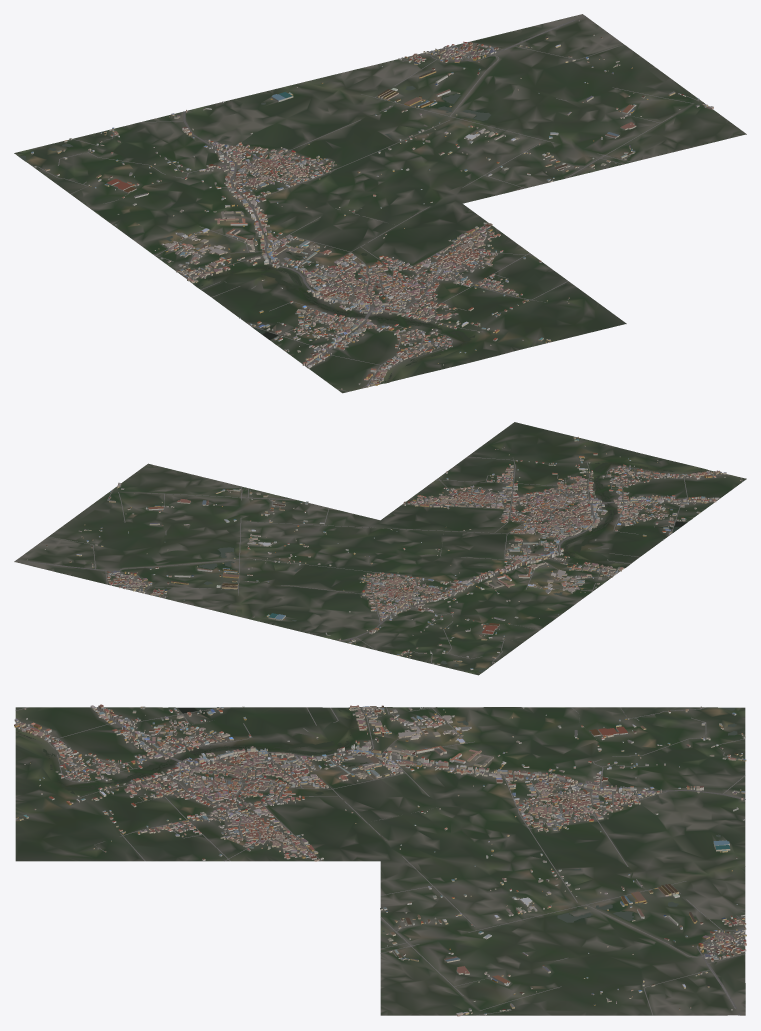
3 views of the same model, one above another, from view 1: azimuth 30°, elevation 25°; view 2: azimuth 150°, elevation 25°; view 3: azimuth 270°, elevation 25° (orthographic). The views are drawn at different scales.
Parts seen in each view (by area): view 1: ground, buildings, roads, water; view 2: ground, buildings, roads, water; view 3: ground, buildings, roads, water.
Part boxes in pixels (x1=…): ground: x1=14, y1=14, x2=746, y2=393; buildings: x1=31, y1=20, x2=713, y2=389; roads: x1=32, y1=15, x2=698, y2=391; water: x1=18, y1=78, x2=590, y2=382; ground: x1=14, y1=422, x2=746, y2=675; buildings: x1=27, y1=436, x2=741, y2=669; roads: x1=16, y1=449, x2=742, y2=664; water: x1=182, y1=462, x2=708, y2=672; ground: x1=15, y1=707, x2=745, y2=1015; buildings: x1=14, y1=704, x2=746, y2=1016; roads: x1=15, y1=707, x2=745, y2=1015; water: x1=17, y1=707, x2=737, y2=931.
Bounding box in the file's own units: 2817 × 26.31 × 2816.
